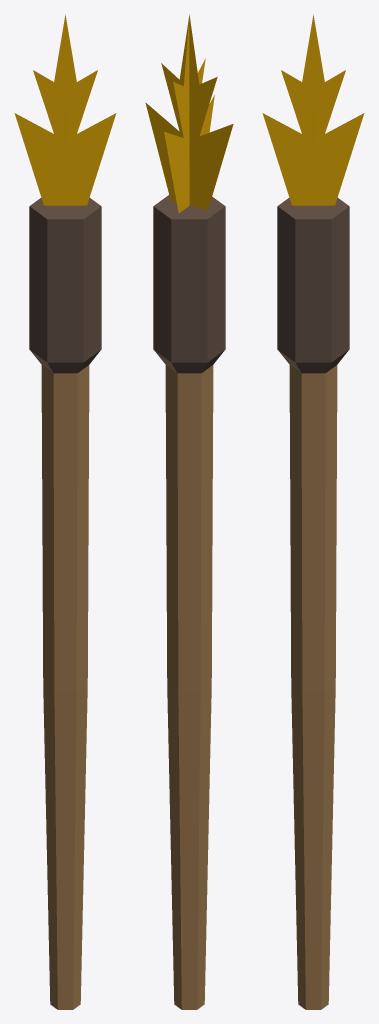
File: torche_01.fbx
3 views of the same model, side by side, from view 1: azimuth 90°, elevation 25°; view 2: azimuth 150°, elevation 25°; view 3: azimuth 270°, elevation 25° (orthographic).
Visible parts, largest first — view 1: torche_01; view 2: torche_01; view 3: torche_01.
Part boxes in pixels (<box>): torche_01: <box>14,14,116,1009</box>; torche_01: <box>145,14,233,1009</box>; torche_01: <box>262,14,364,1009</box>.
Size of the model in its own units: 20.37 by 218 by 20.37.
